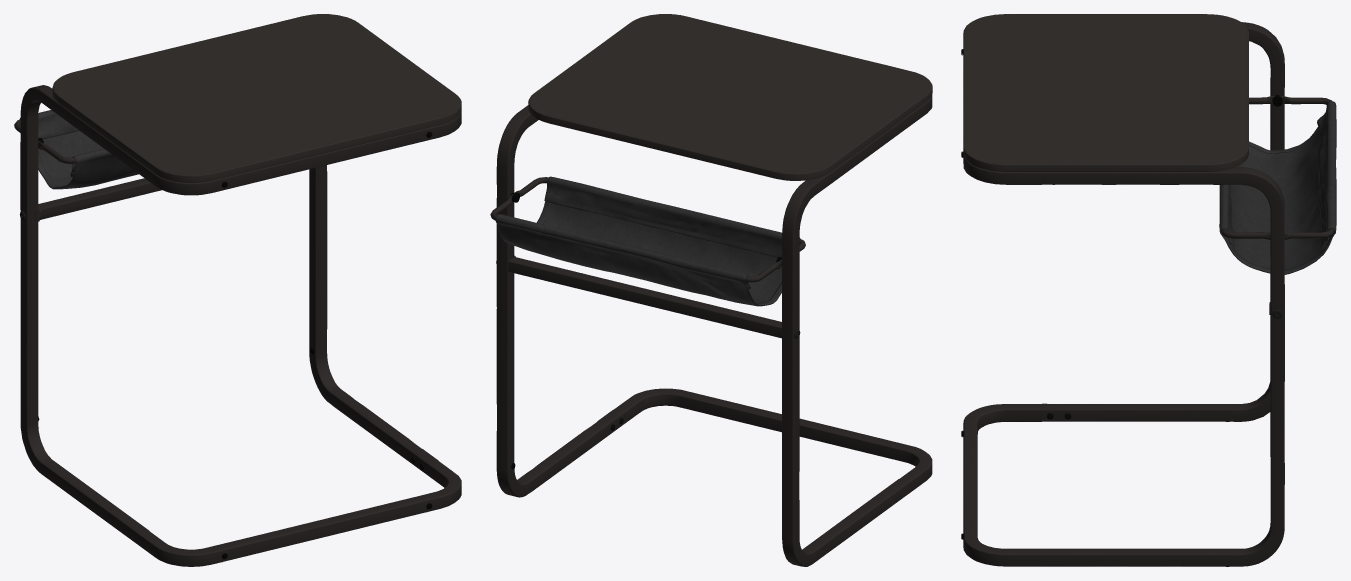
The model's file is olserod_stolik_40530917.glb.
3 renders of one model, left to right at view 1: azimuth 30°, elevation 25°; view 2: azimuth 150°, elevation 25°; view 3: azimuth 270°, elevation 25°, orthographic. The views are drawn at different scales.
Visible parts, largest first — view 1: olserod_stolik_40530917; view 2: olserod_stolik_40530917; view 3: olserod_stolik_40530917.
Part boxes in pixels (left/top/right/bottom): olserod_stolik_40530917: left=14, top=14, right=461, bottom=566; olserod_stolik_40530917: left=490, top=14, right=932, bottom=566; olserod_stolik_40530917: left=961, top=14, right=1336, bottom=566.
Size of the model in its own units: 0.505 by 0.6252 by 0.5257.
2 materials, 2 textured.
